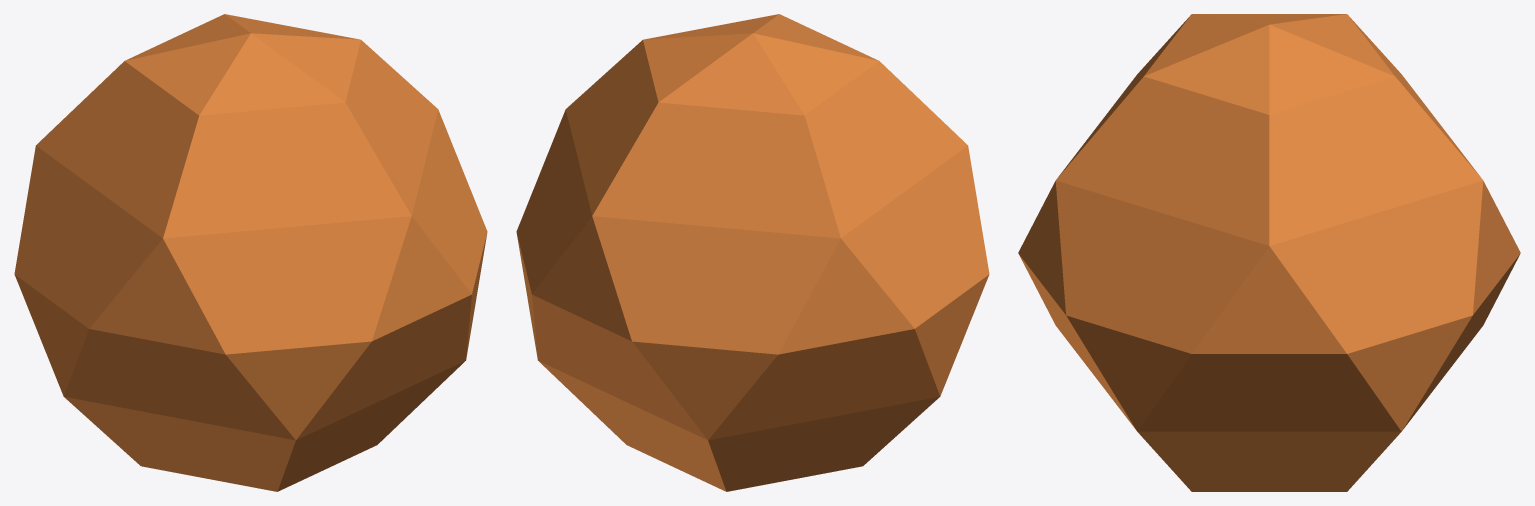
Rendered from orange.fbx.
3 views of the same model, side by side, from view 1: azimuth 30°, elevation 25°; view 2: azimuth 150°, elevation 25°; view 3: azimuth 270°, elevation 25° (orthographic). The views are drawn at different scales.
Visible parts, largest first — view 1: orange; view 2: orange; view 3: orange.
Boxes of the visible parts, x1,y1,x2,y2 form: orange: (14, 14, 487, 491); orange: (516, 14, 989, 491); orange: (1018, 14, 1520, 491).
Bounding box in the file's own units: 22.08 × 23.22 × 21.51.
